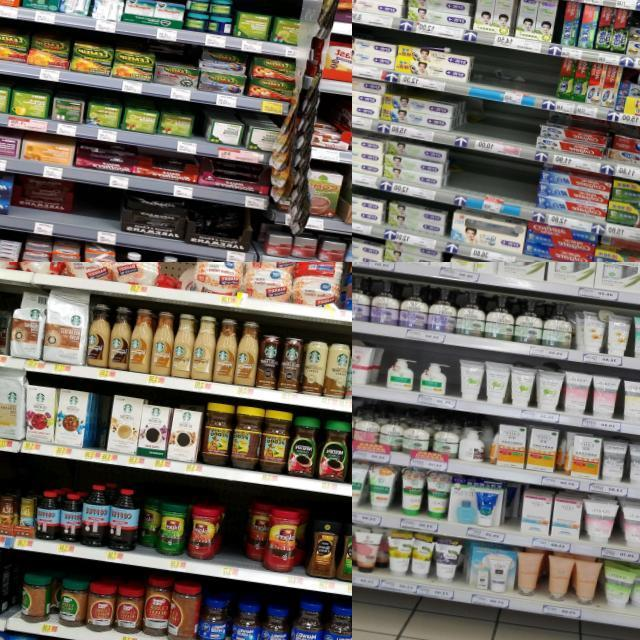empty: (448, 152, 540, 214), (468, 46, 561, 107), (469, 101, 538, 158), (70, 184, 122, 243), (216, 486, 248, 578), (93, 396, 113, 460)
